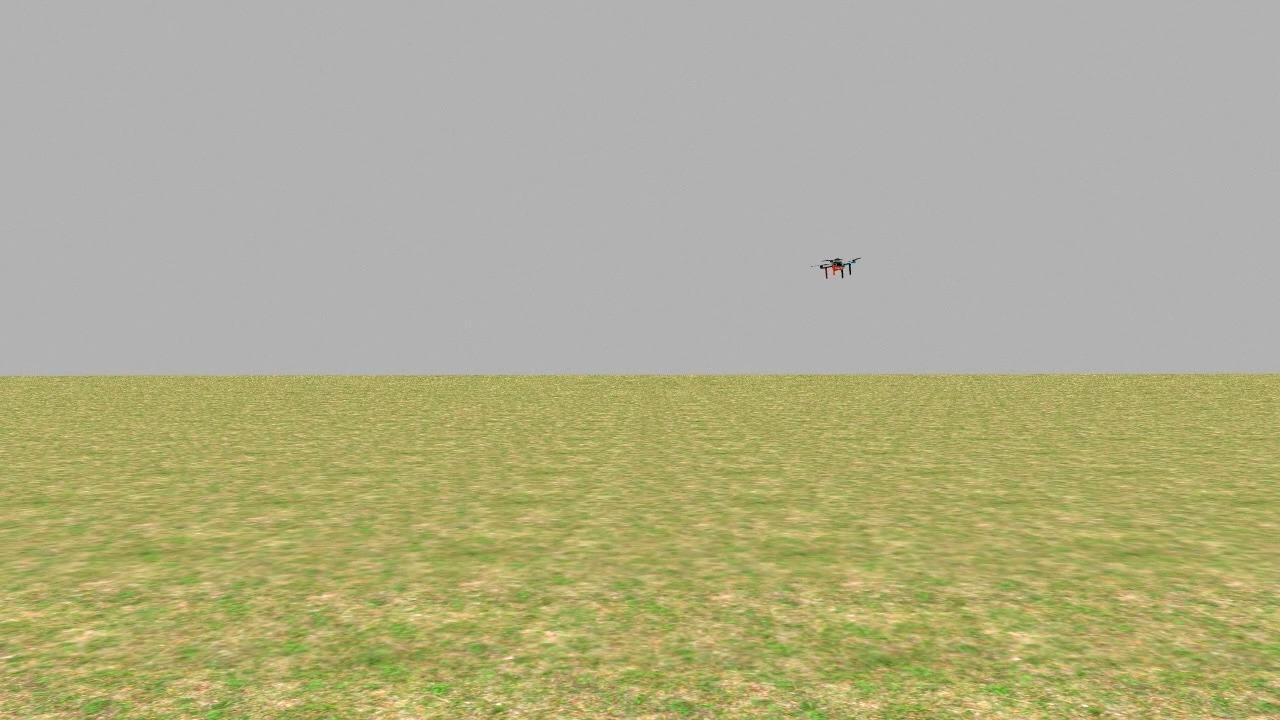UAV: (798, 239, 873, 289)
